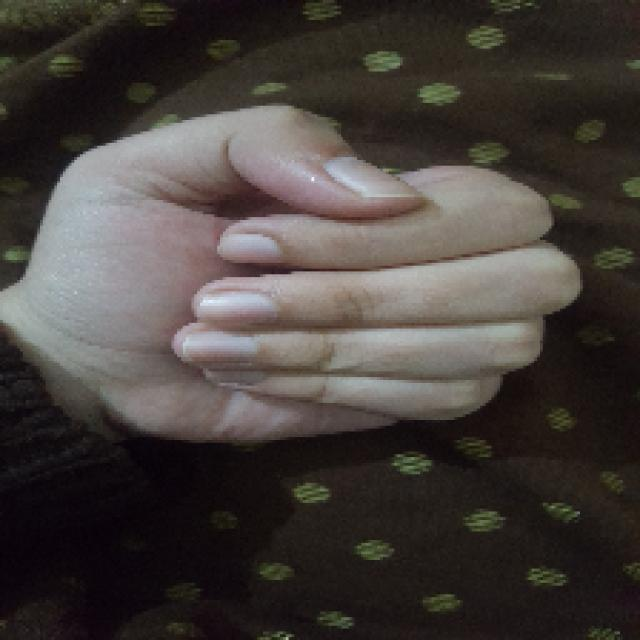Nail: (324, 156, 420, 198), (194, 291, 278, 324), (179, 331, 256, 361), (218, 234, 281, 264), (206, 371, 266, 383)
